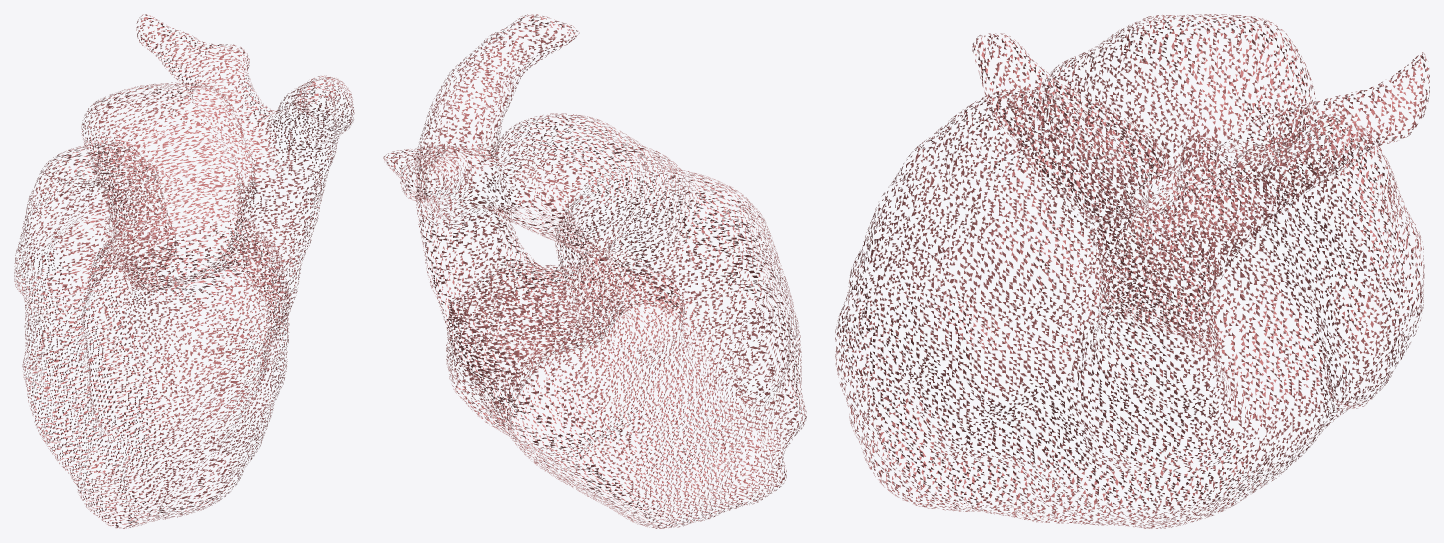
File: heart.glb
3 views of the same model, side by side, from view 1: azimuth 30°, elevation 25°; view 2: azimuth 150°, elevation 25°; view 3: azimuth 270°, elevation 25° (orthographic). The views are drawn at different scales.
Size of the model in its own units: 115 by 153 by 137.
